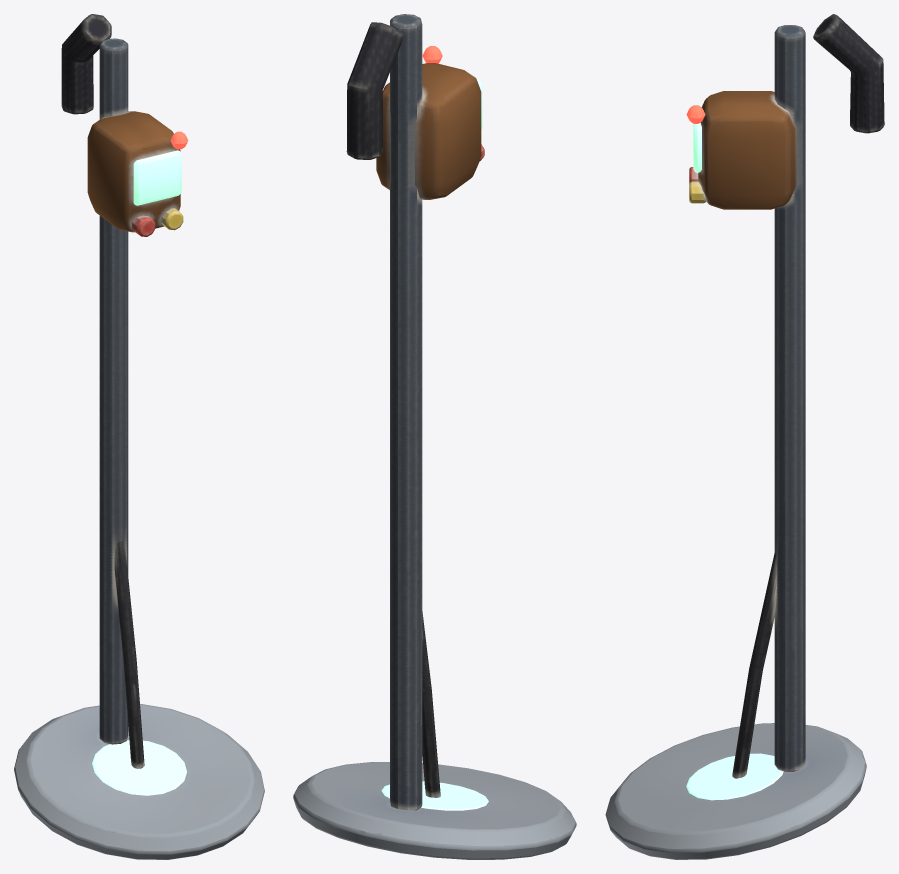
Rendered from detector.glb.
3 views of the same model, side by side, from view 1: azimuth 30°, elevation 25°; view 2: azimuth 150°, elevation 25°; view 3: azimuth 270°, elevation 25° (orthographic). The views are drawn at different scales.
Parts seen in each view (by area): view 1: SM_Detector; view 2: SM_Detector; view 3: SM_Detector.
Part boxes in pixels (x1,y1,x2,y2): SM_Detector: [14, 14, 264, 859]; SM_Detector: [293, 14, 576, 859]; SM_Detector: [605, 14, 884, 859].
Size of the model in its own units: 0.312 by 1.04 by 0.3262.
Materials: 4 (2 with a texture image).
